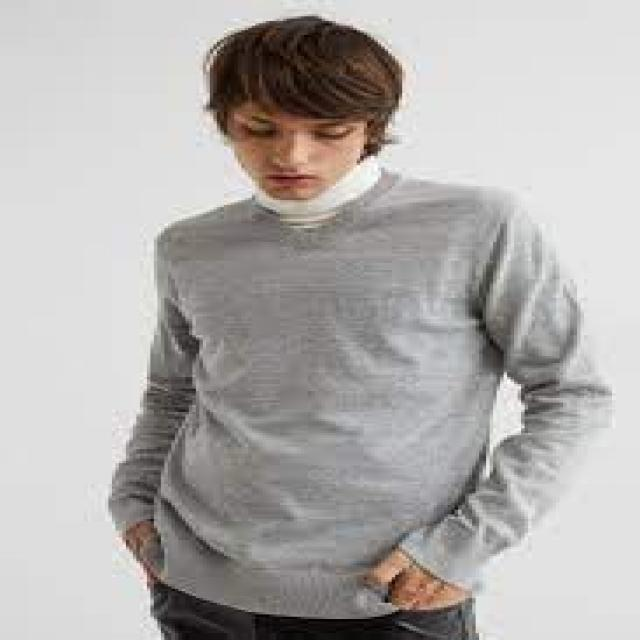plain: (115, 202, 616, 618)
